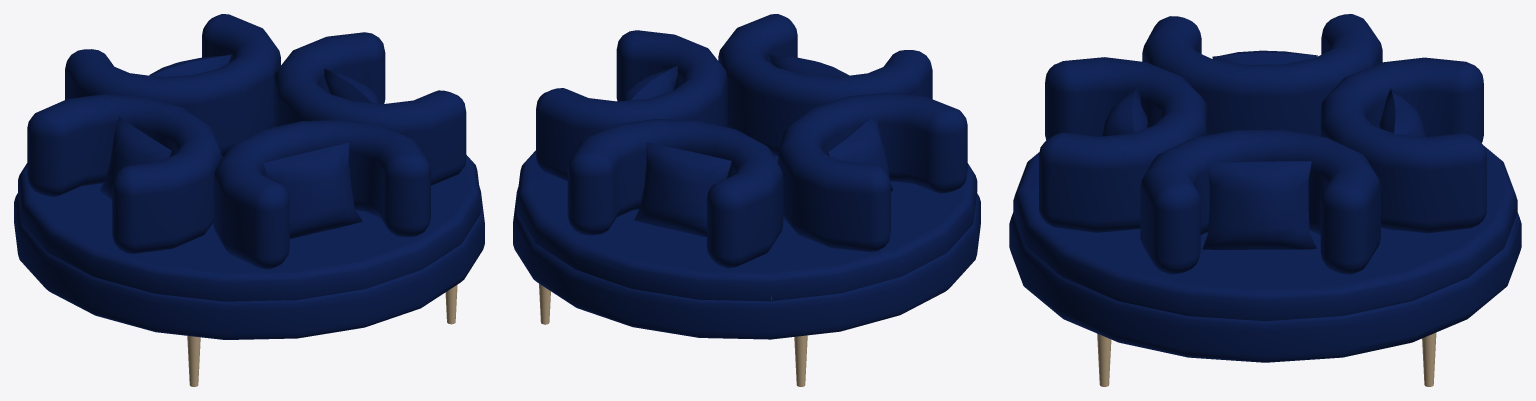
3 renders of one model, left to right at view 1: azimuth 30°, elevation 25°; view 2: azimuth 150°, elevation 25°; view 3: azimuth 270°, elevation 25°, orthographic. The views are drawn at different scales.
Visible parts, largest first — view 1: polySurface11.001; view 2: polySurface11.001; view 3: polySurface11.001.
Part boxes in pixels (x1,y1,x2,y2): polySurface11.001: (14,14,484,386); polySurface11.001: (513,14,980,386); polySurface11.001: (1009,14,1521,386).
Size of the model in its own units: 1.68 by 0.7789 by 1.68.
Materials: 1 (1 with a texture image).
